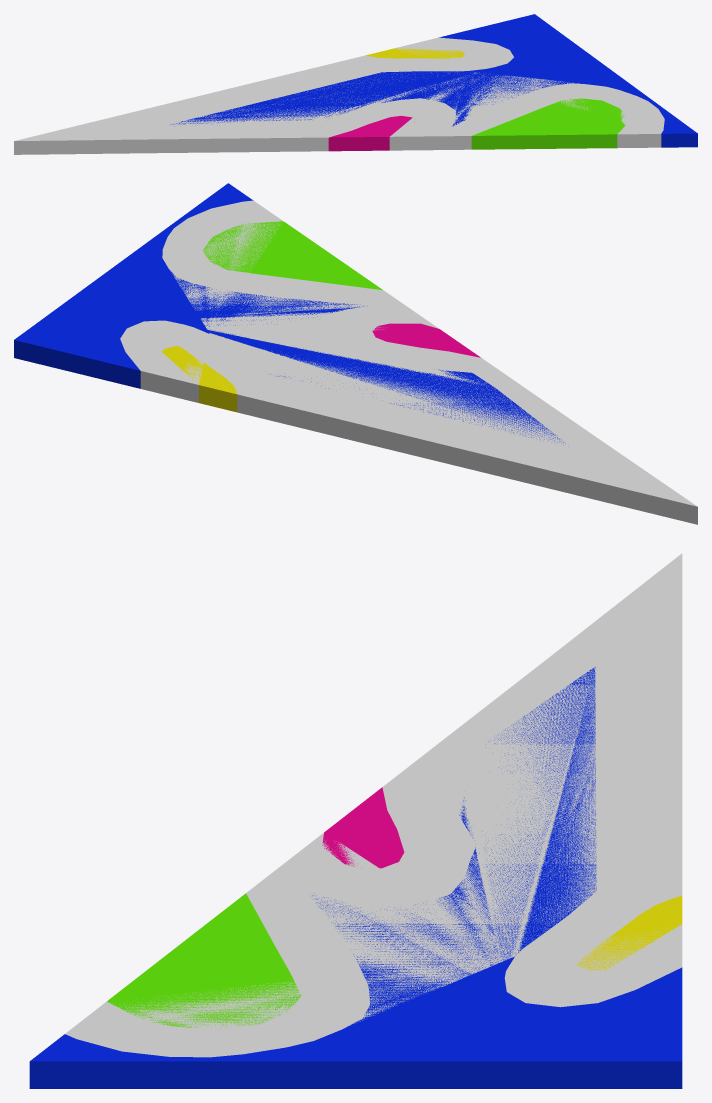
The model's file is kartane1 (3).fbx.
The picture shows the model from 3 angles, top to bottom: view 1: azimuth 30°, elevation 25°; view 2: azimuth 150°, elevation 25°; view 3: azimuth 270°, elevation 25°; orthographic projection. The views are drawn at different scales.
Parts seen in each view (by area): view 1: Cube.064, Cube.046, Cube.032, Cube.068, Cube.051; view 2: Cube.064, Cube.046, Cube.032, Cube.051, Cube.068; view 3: Cube.064, Cube.046, Cube.032, Cube.068, Cube.051.
Part boxes in pixels (box(x1,y1,x2,y2)): Cube.064: box(14, 37, 664, 154); Cube.046: box(171, 14, 697, 147); Cube.032: box(471, 98, 625, 149); Cube.068: box(328, 115, 412, 151); Cube.051: box(365, 48, 464, 58); Cube.064: box(120, 200, 697, 524); Cube.046: box(14, 183, 565, 445); Cube.032: box(203, 221, 382, 289); Cube.051: box(161, 346, 237, 412); Cube.068: box(372, 323, 480, 357); Cube.064: box(65, 553, 682, 1057); Cube.046: box(29, 667, 682, 1088); Cube.032: box(107, 893, 301, 1027); Cube.068: box(322, 787, 404, 868); Cube.051: box(577, 895, 682, 970).
Size of the model in its own units: 48.29 by 88.98 by 2.25.
